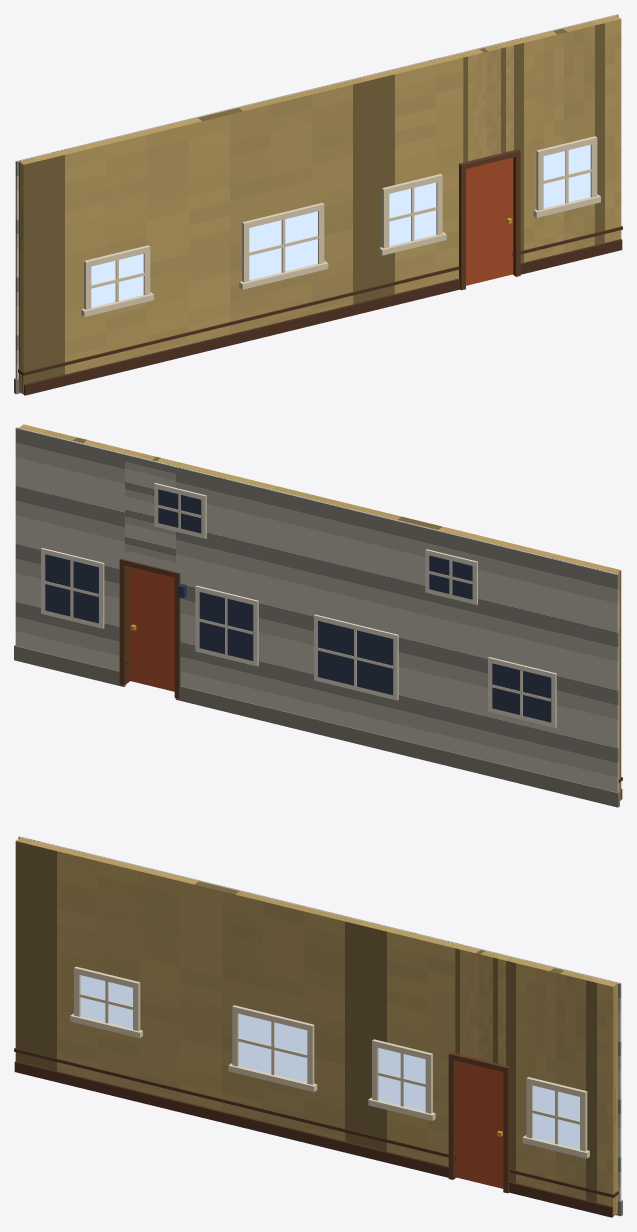
The model's file is front.glb.
3 views of the same model, one above another, from view 1: azimuth 30°, elevation 25°; view 2: azimuth 150°, elevation 25°; view 3: azimuth 330°, elevation 25° (orthographic).
Visible parts, largest first — view 1: Box1, Box3, Box5, Box14, Box2, Box70, Box47, Box25, Box36, Box58, Box71, Box6 (+10 smaller); view 2: Box6, Box8, Box7, Box14, Box10, Box40, Box1, Box29, Box18, Box51, Box9, Box39 (+10 smaller); view 3: Box1, Box3, Box5, Box14, Box2, Box47, Box70, Box36, Box25, Box58, Box71, Box4 (+10 smaller).
Part boxes in pixels (x1,y1,x2,y2): Box1: (19,54,463,394); Box3: (510,15,621,263); Box5: (459,42,513,162); Box14: (466,157,513,285); Box2: (24,278,459,395); Box70: (19,270,458,392); Box47: (249,211,317,280); Box25: (543,145,590,208); Box36: (389,182,436,245); Box58: (91,254,143,307); Box71: (18,266,459,375); Box6: (15,53,457,379); Box6: (176,466,618,792); Box8: (15,427,126,685); Box7: (175,686,619,807); Box14: (129,567,174,691); Box10: (125,454,176,571); Box40: (318,621,393,695); Box1: (177,463,621,800); Box29: (199,592,253,660); Box18: (45,554,98,623); Box51: (492,663,551,722); Box9: (14,645,124,686); Box39: (314,614,398,700); Box1: (15,837,458,1166); Box3: (506,957,617,1216); Box5: (455,945,510,1065); Box14: (456,1060,503,1188); Box2: (14,1061,448,1177); Box47: (238,1014,307,1082); Box70: (16,1052,448,1165); Box36: (378,1048,425,1111); Box25: (533,1085,579,1148); Box58: (80,975,132,1028); Box71: (14,1048,456,1159); Box4: (509,1181,612,1217).
Size of the model in its own units: 11.27 by 4.14 by 0.395.
Materials: 11 (2 with a texture image).
